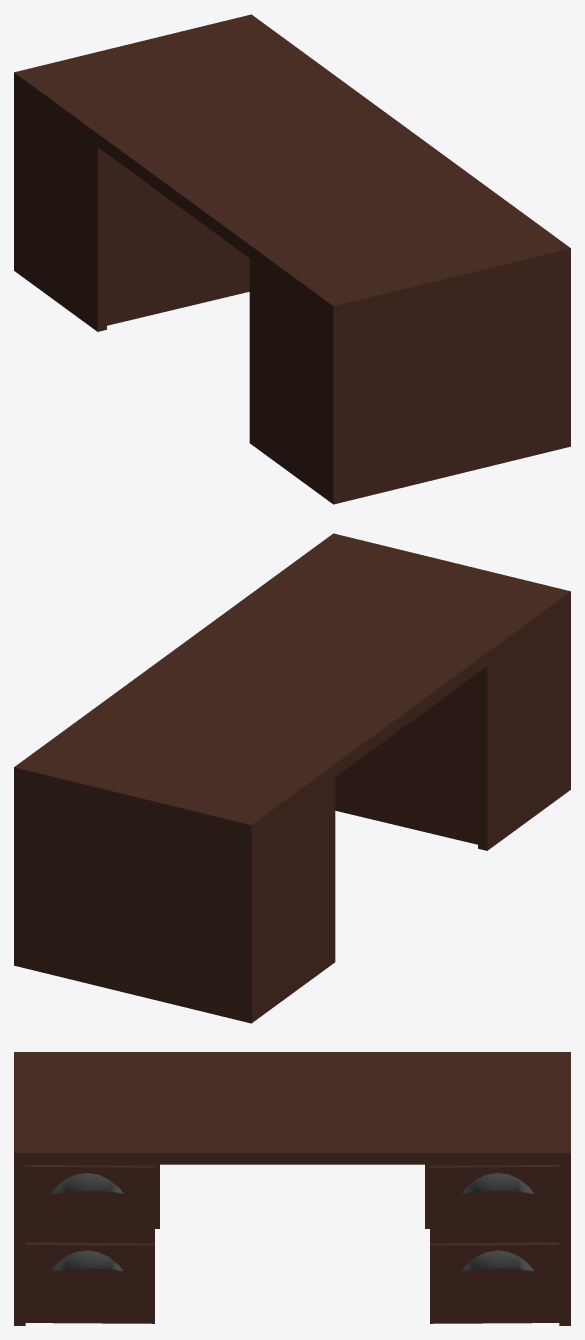
File: desk.fbx
3 renders of one model, top to bottom at view 1: azimuth 30°, elevation 25°; view 2: azimuth 150°, elevation 25°; view 3: azimuth 270°, elevation 25°, orthographic. The views are drawn at different scales.
Visible parts, largest first — view 1: Cube.002; view 2: Cube.002; view 3: Cube.002, Cylinder.
Part boxes in pixels (x1,y1,x2,y2): Cube.002: (14, 14, 570, 504); Cube.002: (14, 533, 570, 1023); Cube.002: (14, 1052, 570, 1325); Cylinder: (50, 1173, 534, 1271).
Size of the model in its own units: 204 by 160 by 466.
